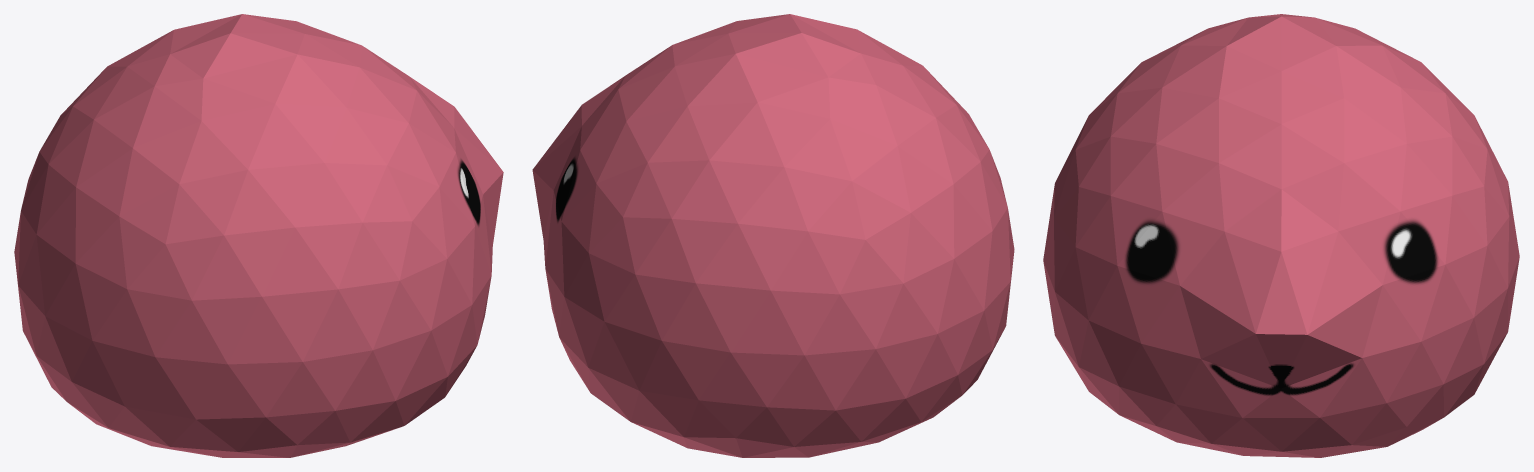
Rendered from Loro.fbx.
3 views of the same model, side by side, from view 1: azimuth 30°, elevation 25°; view 2: azimuth 150°, elevation 25°; view 3: azimuth 270°, elevation 25° (orthographic).
Parts seen in each view (by area): view 1: Icosphere; view 2: Icosphere; view 3: Icosphere.
Boxes of the visible parts, left/top/right/bottom form: Icosphere: left=14, top=14, right=503, bottom=457; Icosphere: left=532, top=14, right=1014, bottom=457; Icosphere: left=1043, top=14, right=1519, bottom=457.
Bounding box in the file's own units: 215 × 172 × 200.
1 material, 1 textured.
